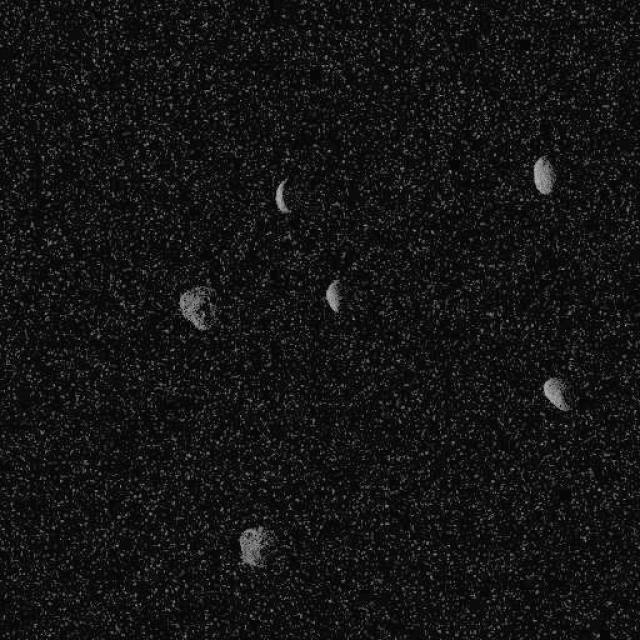D2: (178, 285, 218, 331), (238, 524, 274, 568), (541, 375, 571, 413), (531, 154, 555, 195), (274, 176, 291, 214), (324, 278, 341, 312)
